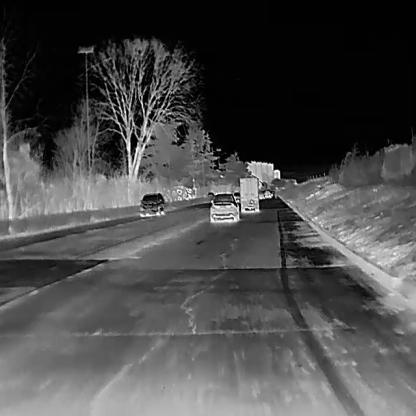car: (208, 192, 239, 222), (238, 175, 259, 212), (137, 191, 164, 216), (232, 190, 241, 202), (257, 189, 265, 199), (263, 188, 271, 198)
